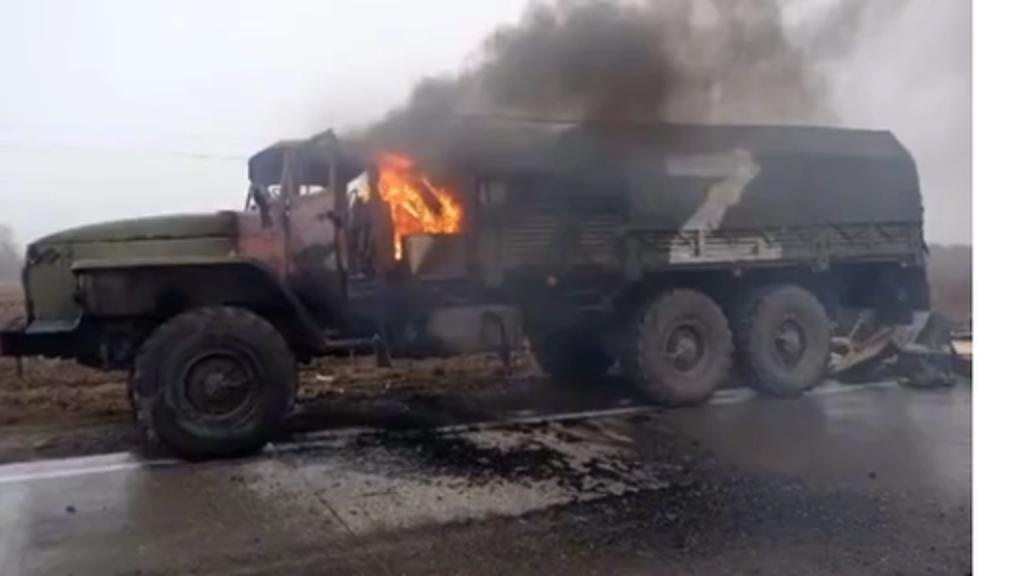TRUCK: (0, 98, 930, 464)
